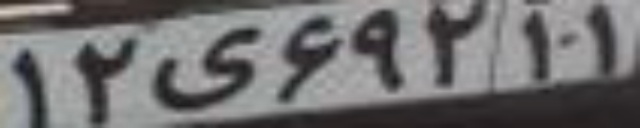1: (574, 5, 622, 72), (12, 46, 48, 126), (521, 10, 556, 77)
2: (423, 4, 491, 89), (79, 38, 124, 122)
6: (271, 18, 346, 94)
9: (353, 10, 405, 92)
ye: (145, 27, 260, 106)
